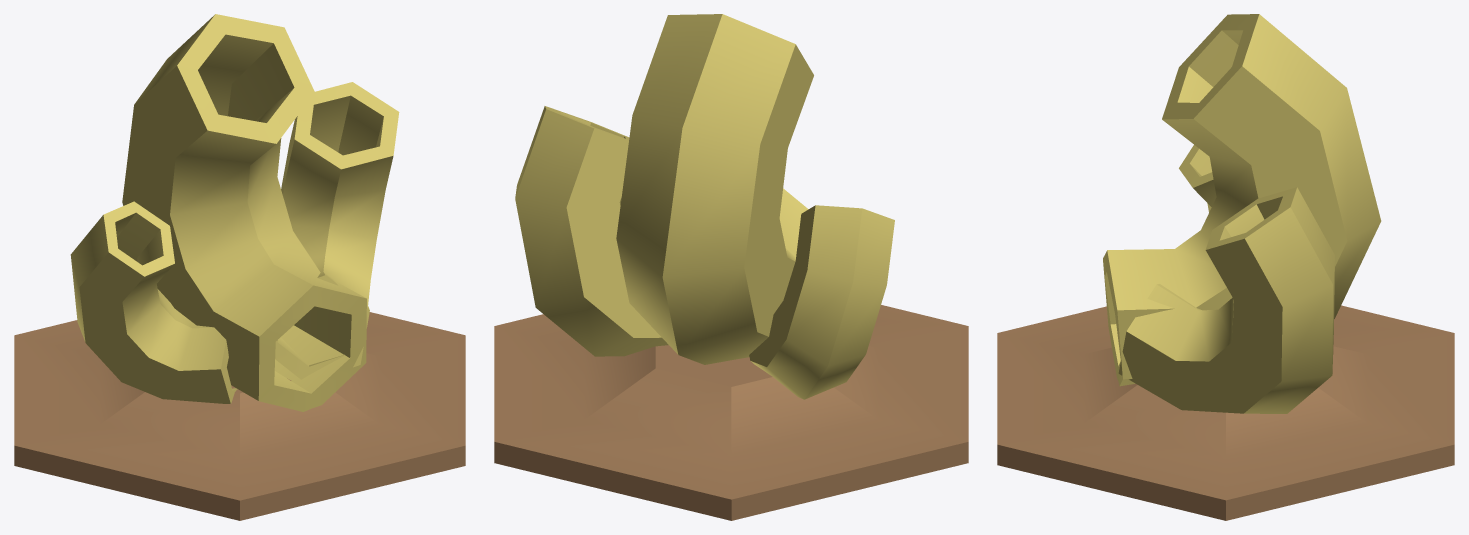
The model's file is macaroni hat.fbx.
3 renders of one model, left to right at view 1: azimuth 30°, elevation 25°; view 2: azimuth 150°, elevation 25°; view 3: azimuth 270°, elevation 25°, orthographic. The views are drawn at different scales.
Visible parts, largest first — view 1: polySurface635; view 2: polySurface635; view 3: polySurface635.
Part boxes in pixels (bbox=[...]): polySurface635: bbox=[14, 14, 465, 520]; polySurface635: bbox=[494, 14, 968, 520]; polySurface635: bbox=[997, 14, 1454, 520].
Bounding box in the file's own units: 218 × 178 × 188.
Materials: 2 (2 with a texture image).
